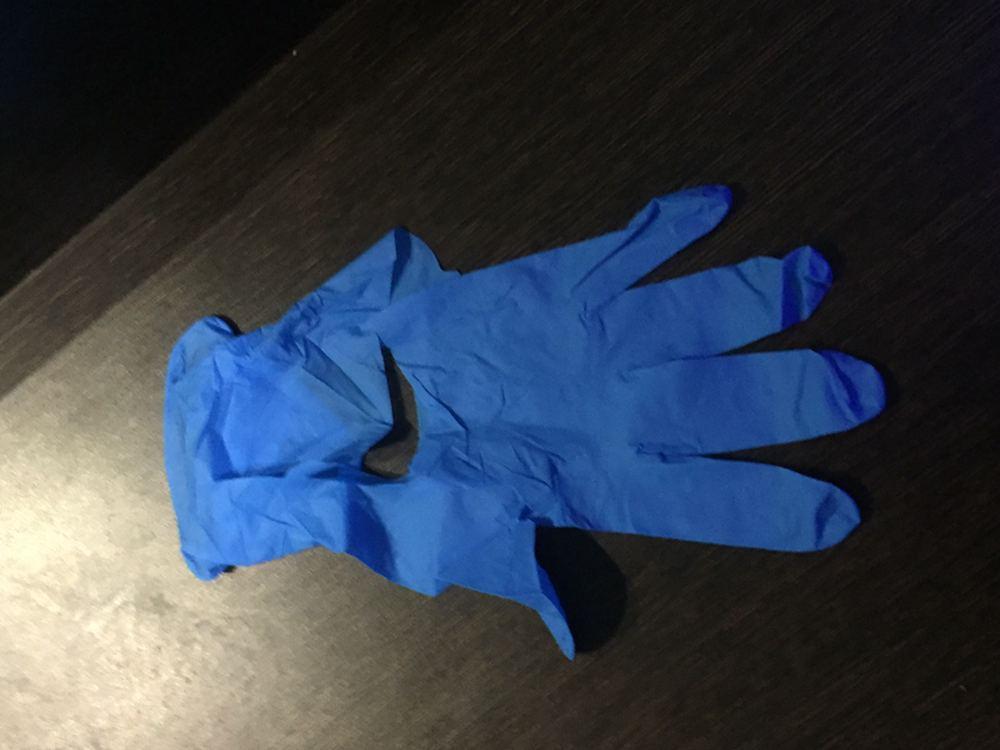defected: (124, 161, 893, 620)
